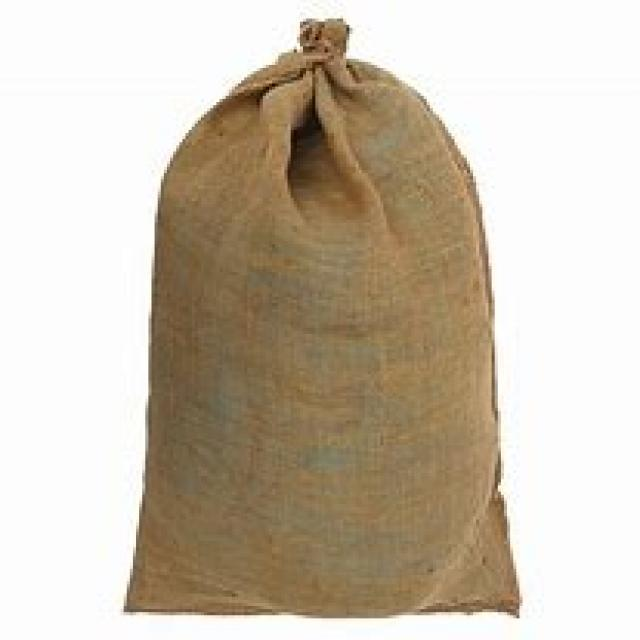gunny_bag: (120, 16, 526, 623)
